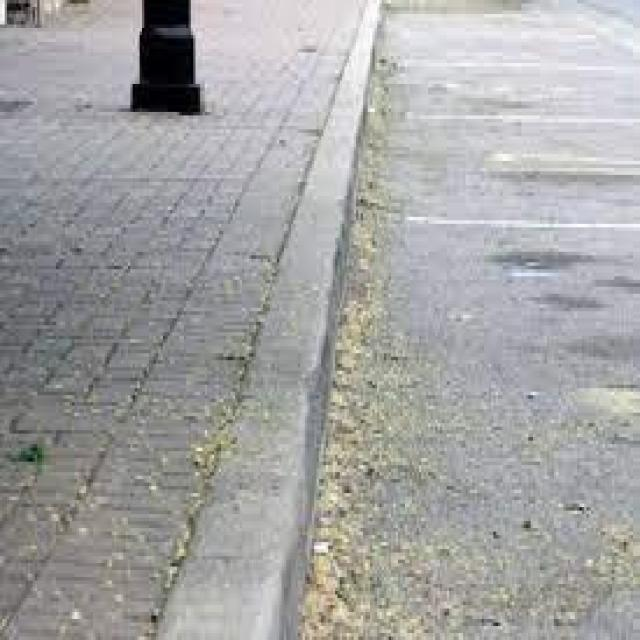curb: (151, 25, 379, 640)
